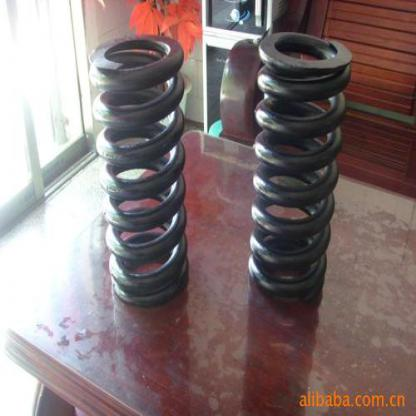FOD: (244, 28, 354, 301), (85, 28, 190, 310)
